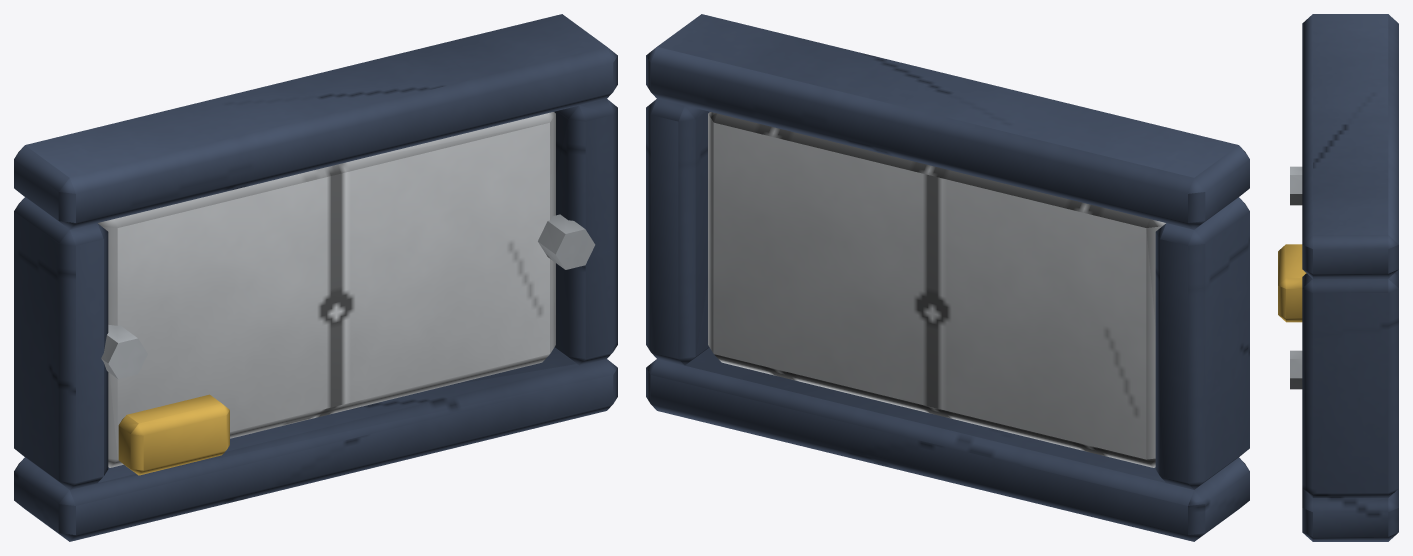
File: equipment_plate.glb
The picture shows the model from 3 angles, left to right: view 1: azimuth 30°, elevation 25°; view 2: azimuth 150°, elevation 25°; view 3: azimuth 270°, elevation 25°; orthographic projection. The views are drawn at different scales.
Parts seen in each view (by area): view 1: DL017_EquipmentPlate_graphite_navy, DL017_EquipmentPlate_hull_offwhite, DL017_EquipmentPlate_amber_accent, DL017_EquipmentPlate_titanium; view 2: DL017_EquipmentPlate_graphite_navy, DL017_EquipmentPlate_hull_offwhite; view 3: DL017_EquipmentPlate_graphite_navy, DL017_EquipmentPlate_amber_accent, DL017_EquipmentPlate_titanium.
Part boxes in pixels (x1,y1,x2,y2): DL017_EquipmentPlate_graphite_navy: [14, 14, 617, 541]; DL017_EquipmentPlate_hull_offwhite: [98, 112, 555, 467]; DL017_EquipmentPlate_amber_accent: [118, 394, 229, 475]; DL017_EquipmentPlate_titanium: [101, 214, 595, 379]; DL017_EquipmentPlate_graphite_navy: [646, 14, 1249, 541]; DL017_EquipmentPlate_hull_offwhite: [708, 112, 1165, 467]; DL017_EquipmentPlate_graphite_navy: [1302, 14, 1398, 541]; DL017_EquipmentPlate_amber_accent: [1278, 244, 1306, 322]; DL017_EquipmentPlate_titanium: [1290, 166, 1302, 389].
Bounding box in the file's own units: 0.45 × 0.28 × 0.1.
4 materials, 4 textured.
